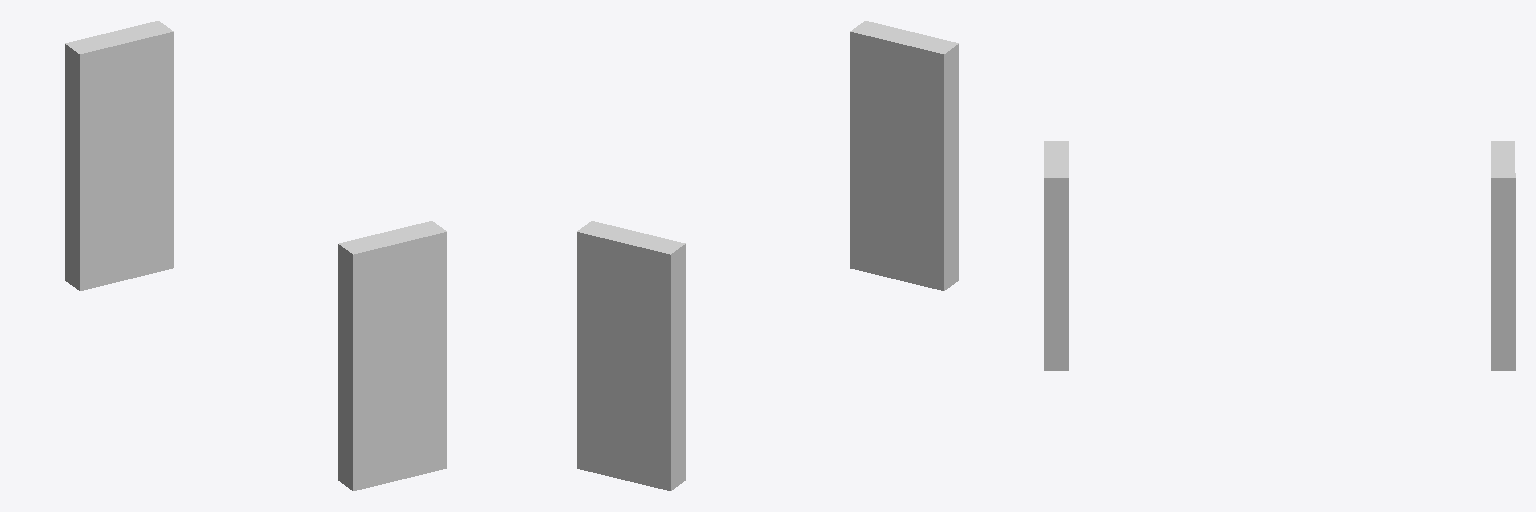
URDF robot description (rbotiq):
<?xml version="1.0" encoding="utf-8"?>
<!-- =================================================================================== -->
<!-- |    This document was not autogenerated by xacro from panda_arm_hand.urdf.xacro  | -->
<!-- |    EDITING THIS FILE BY HAND IS NOT RECOMMENDED but I edit it by hand           | -->
<!-- =================================================================================== -->
<robot name="rbotiq">
  <link name="root">
    <inertial>
      <mass value="0.01"/>
      <inertia ixx="1e-4" ixy="0.0" ixz="0.0" iyy="1e-4" iyz="0.0" izz="1e-4"/>
    </inertial>
  </link>
  <link name="root1">
    <inertial>
      <mass value="0.01"/>
      <inertia ixx="1e-4" ixy="0.0" ixz="0.0" iyy="1e-4" iyz="0.0" izz="1e-4"/>
    </inertial>
  </link>
  <link name="root2">
    <inertial>
      <mass value="0.01"/>
      <inertia ixx="1e-4" ixy="0.0" ixz="0.0" iyy="1e-4" iyz="0.0" izz="1e-4"/>
    </inertial>
  </link>
  <link name="root3">
    <inertial>
      <mass value="0.01"/>
      <inertia ixx="1e-4" ixy="0.0" ixz="0.0" iyy="1e-4" iyz="0.0" izz="1e-4"/>
    </inertial>
  </link>
  <link name="root4">
    <inertial>
      <mass value="0.01"/>
      <inertia ixx="1e-4" ixy="0.0" ixz="0.0" iyy="1e-4" iyz="0.0" izz="1e-4"/>
    </inertial>
  </link>
  <link name="root5">
    <inertial>
      <mass value="1"/>
      <inertia ixx="0.05" ixy="0.0" ixz="0.0" iyy="0.05" iyz="0.0" izz="0.05"/>
    </inertial>
  </link>
  <joint name="6dof_x_joint" type="prismatic">
    <parent link="root"/>
    <child link="root1"/>
    <axis xyz="1 0 0"/>
    <limit lower="-10" upper="10"/>
  </joint>
  <joint name="6dof_y_joint" type="prismatic">
    <parent link="root1"/>
    <child link="root2"/>
    <axis xyz="0 1 0"/>
    <limit lower="-10" upper="10"/>
  </joint>
  <joint name="6dof_z_joint" type="prismatic">
    <parent link="root2"/>
    <child link="root3"/>
    <axis xyz="0 0 1"/>
    <limit lower="-10" upper="10"/>
  </joint>
  <joint name="6dof_x_rotation_joint" type="continuous">
    <parent link="root3"/>
    <child link="root4"/>
    <axis xyz="1 0 0"/>
  </joint>
  <joint name="6dof_y_rotation_joint" type="continuous">
    <parent link="root4"/>
    <child link="root5"/>
    <axis xyz="0 1 0"/>
  </joint>
  <joint name="6dof_z_rotation_joint" type="continuous">
    <parent link="root5"/>
    <child link="robotiq_arg2f_base_link"/>
    <axis xyz="0 0 1"/>
  </joint>

  <!--  Begin Robotiq-140-->
  <link name="robotiq_arg2f_base_link">
    <inertial>
      <origin rpy="0 0 0" xyz="8.625E-08 -4.6583E-06 0.03145"/>
      <mass value="0.22652"/>
      <inertia ixx="0.00020005" ixy="-4.2442E-10" ixz="-2.9069E-10" iyy="0.00017832" iyz="-3.4402E-08"
               izz="0.00013478"/>
    </inertial>
    <visual>
      <origin rpy="0 0 0" xyz="0 0 0"/>
      <geometry>
        <mesh filename="robotiq_description/visual/robotiq_arg2f_base_link.dae"/>
      </geometry>
      <material name="">
        <color rgba="0.1 0.1 0.1 1"/>
      </material>
    </visual>
    <collision>
      <origin rpy="0 0 0" xyz="0 0 0"/>
      <geometry>
        <mesh filename="robotiq_description/collision/robotiq_arg2f_base_link.stl"/>
      </geometry>
    </collision>
  </link>
  <link name="grasp_convenient_link"/>
  <joint name="grasp_convenient_joint" type="fixed">
    <origin rpy="0 0 0" xyz="0 0 0.225"/>
    <parent link="robotiq_arg2f_base_link"/>
    <child link="grasp_convenient_link"/>
  </joint>
  <link name="left_outer_knuckle">
    <inertial>
      <origin rpy="0 0 0" xyz="-0.000200000000003065 0.0199435877845359 0.0292245259211331"/>
      <mass value="0.00853198276973456"/>
      <inertia ixx="2.89328108496468E-04" ixy="-1.57935047237397E-19" ixz="-1.93980378593255E-19"
               iyy="1.86719750325683E-04" iyz="-1.21858577871576E-04" izz="1.21905238907251E-04"/>
    </inertial>
    <visual>
      <origin rpy="0 0 0" xyz="0 0 0"/>
      <geometry>
        <mesh
            filename="robotiq_description/visual/robotiq_arg2f_140_outer_knuckle.dae"/>
      </geometry>
      <material name="">
        <color rgba="0.792156862745098 0.819607843137255 0.933333333333333 1"/>
      </material>
    </visual>
    <!--    <collision>-->
    <!--      <origin rpy="0 0 0" xyz="0 0 0"/>-->
    <!--      <geometry>-->
    <!--        <mesh-->
    <!--            filename="package://robotiq_2f_140_gripper_visualization/meshes/collision/robotiq_arg2f_140_outer_knuckle.stl"/>-->
    <!--      </geometry>-->
    <!--    </collision>-->
  </link>
  <link name="left_outer_finger">
    <inertial>
      <origin rpy="0 0 0" xyz="0.00030115855001899 0.0373907951953854 -0.0208027427000385"/>
      <mass value="0.022614240507152"/>
      <inertia ixx="1.52518312458174E-03" ixy="9.76583423954399E-10" ixz="-5.43838577022588E-10"
               iyy="6.17694243867776E-04" iyz="6.78636130740228E-04" izz="1.16494917907219E-03"/>
    </inertial>
    <visual>
      <origin rpy="0 0 0" xyz="0 0 0"/>
      <geometry>
        <mesh
            filename="robotiq_description/visual/robotiq_arg2f_140_outer_finger.dae"/>
      </geometry>
      <material name="">
        <color rgba="0.1 0.1 0.1 1"/>
      </material>
    </visual>
    <!--    <collision>-->
    <!--      <origin rpy="0 0 0" xyz="0 0 0"/>-->
    <!--      <geometry>-->
    <!--        <mesh-->
    <!--            filename="package://robotiq_2f_140_gripper_visualization/meshes/collision/robotiq_arg2f_140_outer_finger.stl"/>-->
    <!--      </geometry>-->
    <!--    </collision>-->
  </link>
  <link name="left_inner_finger">
    <inertial>
      <origin rpy="0 0 0" xyz="0.000299999999999317 0.0160078233491243 -0.0136945669206257"/>
      <mass value="0.0104003125914103"/>
      <inertia ixx="2.71909453810972E-04" ixy="1.35402465472579E-21" ixz="-7.1817349065269E-22"
               iyy="7.69100314106116E-05" iyz="6.74715432769696E-05" izz="2.30315190420171E-04"/>
    </inertial>
    <visual>
      <origin rpy="0 0 0" xyz="0 0 0"/>
      <geometry>
        <mesh
            filename="robotiq_description/visual/robotiq_arg2f_140_inner_finger.dae"/>
      </geometry>
      <material name="">
        <color rgba="0.1 0.1 0.1 1"/>
      </material>
    </visual>
  </link>
  <link name="left_inner_finger_pad">
    <visual>
      <origin rpy="0 0 0" xyz="0 0 0"/>
      <geometry>
        <box size="0.027 0.065 0.0075"/>
      </geometry>
      <material name="">
        <color rgba="0.9 0.9 0.9 1"/>
      </material>
    </visual>
    <collision>
      <origin rpy="0 0 0" xyz="0 0 0"/>
      <geometry>
        <box size="0.03 0.07 0.0075"/>
      </geometry>
      <material name="">
        <color rgba="0.9 0.0 0.0 1"/>
      </material>
    </collision>
  </link>
  <link name="left_inner_knuckle">
    <inertial>
      <origin rpy="0 0 0" xyz="0.000123011831763771 0.0507850843201817 0.00103968640075166"/>
      <mass value="0.0271177346495152"/>
      <inertia ixx="2.61910379223783E-03" ixy="-2.43616858946494E-05" ixz="-6.37789906117123E-09"
               iyy="2.8270243746167E-04" iyz="-5.37200748039765E-05" izz="2.83695868220296E-04"/>
    </inertial>
    <visual>
      <origin rpy="0 0 0" xyz="0 0 0"/>
      <geometry>
        <mesh
            filename="robotiq_description/visual/robotiq_arg2f_140_inner_knuckle.dae"/>
      </geometry>
      <material name="">
        <color rgba="0.1 0.1 0.1 1"/>
      </material>
    </visual>
  </link>
  <link name="right_outer_knuckle">
    <inertial>
      <origin rpy="0 0 0" xyz="-0.000200000000003065 0.0199435877845359 0.0292245259211331"/>
      <mass value="0.00853198276973456"/>
      <inertia ixx="2.89328108496468E-06" ixy="-1.57935047237397E-19" ixz="-1.93980378593255E-19"
               iyy="1.86719750325683E-06" iyz="-1.21858577871576E-06" izz="1.21905238907251E-06"/>
    </inertial>
    <visual>
      <origin rpy="0 0 0" xyz="0 0 0"/>
      <geometry>
        <mesh
            filename="robotiq_description/visual/robotiq_arg2f_140_outer_knuckle.dae"/>
      </geometry>
      <material name="">
        <color rgba="0.792156862745098 0.819607843137255 0.933333333333333 1"/>
      </material>
    </visual>
  </link>
  <link name="right_outer_finger">
    <inertial>
      <origin rpy="0 0 0" xyz="0.00030115855001899 0.0373907951953854 -0.0208027427000385"/>
      <mass value="0.022614240507152"/>
      <inertia ixx="1.52518312458174E-03" ixy="9.76583423954399E-10" ixz="-5.43838577022588E-10"
               iyy="6.17694243867776E-03" iyz="6.78636130740228E-04" izz="1.16494917907219E-03"/>
    </inertial>
    <visual>
      <origin rpy="0 0 0" xyz="0 0 0"/>
      <geometry>
        <mesh
            filename="robotiq_description/visual/robotiq_arg2f_140_outer_finger.dae"/>
      </geometry>
      <material name="">
        <color rgba="0.1 0.1 0.1 1"/>
      </material>
    </visual>
  </link>
  <link name="right_inner_finger">
    <inertial>
      <origin rpy="0 0 0" xyz="0.000299999999999317 0.0160078233491243 -0.0136945669206257"/>
      <mass value="0.0104003125914103"/>
      <inertia ixx="2.71909453810972E-03" ixy="1.35402465472579E-21" ixz="-7.1817349065269E-22"
               iyy="7.69100314106116E-04" iyz="6.74715432769696E-04" izz="2.30315190420171E-03"/>
    </inertial>
    <visual>
      <origin rpy="0 0 0" xyz="0 0 0"/>
      <geometry>
        <mesh
            filename="robotiq_description/visual/robotiq_arg2f_140_inner_finger.dae"/>
      </geometry>
      <material name="">
        <color rgba="0.1 0.1 0.1 1"/>
      </material>
    </visual>
  </link>
  <link name="right_inner_finger_pad">
    <visual>
      <origin rpy="0 0 0" xyz="0 0 0"/>
      <geometry>
        <box size="0.027 0.065 0.0075"/>
      </geometry>
      <material name="">
        <color rgba="0.9 0.9 0.9 1"/>
      </material>
    </visual>
    <collision>
      <origin rpy="0 0 0" xyz="0 0 0"/>
      <geometry>
        <box size="0.03 0.07 0.0075"/>
      </geometry>
      <material name="">
        <color rgba="0.9 0.0 0.0 1"/>
      </material>
    </collision>
  </link>
  <link name="right_inner_knuckle">
    <inertial>
      <origin rpy="0 0 0" xyz="0.000123011831763771 0.0507850843201817 0.00103968640075166"/>
      <mass value="0.0271177346495152"/>
      <inertia ixx="2.61910379223783E-02" ixy="-2.43616858946494E-04" ixz="-6.37789906117123E-06"
               iyy="2.8270243746167E-03" iyz="-5.37200748039765E-04" izz="2.83695868220296E-02"/>
    </inertial>
    <visual>
      <origin rpy="0 0 0" xyz="0 0 0"/>
      <geometry>
        <mesh
            filename="robotiq_description/visual/robotiq_arg2f_140_inner_knuckle.dae"/>
      </geometry>
      <material name="">
        <color rgba="0.1 0.1 0.1 1"/>
      </material>
    </visual>
  </link>

  <joint name="robotiq_2f_140_left_driver_joint" type="prismatic">
    <origin rpy="1.57079 0 0" xyz="0 -0.068 0.177"/>
    <parent link="robotiq_arg2f_base_link"/>
    <child link="left_inner_finger_pad"/>
    <axis xyz="0 0.35112344 -0.93632918"/>
    <limit effort="1000" lower="0" upper="0.06835" velocity="2.0"/>
  </joint>
  <joint name="robotiq_2f_140_right_driver_joint" type="prismatic">
    <origin rpy="1.57079 0 -3.14" xyz="0 0.068 0.177"/>
    <parent link="robotiq_arg2f_base_link"/>
    <child link="right_inner_finger_pad"/>
    <axis xyz="0 0.35112344 -0.93632918"/>
    <limit effort="1000" lower="0" upper="0.06835" velocity="2.0"/>
  </joint>

  <joint name="robotiq_2f_140_left_driver_mimic_joint" type="fixed">
    <origin rpy="2.29579632679 0 0" xyz="0 -0.030601 0.054905"/>
    <parent link="robotiq_arg2f_base_link"/>
    <child link="left_outer_knuckle"/>
    <axis xyz="-1 0 0"/>
<!--    <limit effort="1000" lower="0" upper="0.725" velocity="2.0"/>-->
<!--    <mimic joint="robotiq_2f_140_left_driver_joint" multiplier="-1" offset="0"/>-->
  </joint>
  <joint name="robotiq_2f_140_left_coupler_joint" type="fixed">
    <origin rpy="0 0 0" xyz="0 0.01821998610742 0.0260018192872234"/>
    <parent link="left_outer_knuckle"/>
    <child link="left_outer_finger"/>
    <axis xyz="1 0 0"/>
  </joint>
  <joint name="robotiq_2f_140_left_spring_link_joint" type="fixed">
    <origin rpy="2.29579632679 0 0.0" xyz="0 -0.0127 0.06142"/>
    <parent link="robotiq_arg2f_base_link"/>
    <child link="left_inner_knuckle"/>
    <axis xyz="-1 0 0"/>
<!--    <limit effort="1000" lower="0" upper="0.8757" velocity="2.0"/>-->
<!--    <mimic joint="robotiq_2f_140_left_driver_joint" multiplier="-1" offset="0"/>-->
  </joint>
  <joint name="robotiq_2f_140_left_pad_joint" type="fixed">
    <origin rpy="0 0 0" xyz="0 -0.0457554015893473 0.0272203446692936"/>
    <child link="left_inner_finger"/>
    <parent link="left_inner_finger_pad"/>
    <axis xyz="0 0 1"/>
  </joint>

  <joint name="robotiq_2f_140_right_driver_mimic_joint" type="fixed">
    <origin rpy="2.29579632679 0 3.14159265359" xyz="0 0.030601 0.054905"/>
    <parent link="robotiq_arg2f_base_link"/>
    <child link="right_outer_knuckle"/>
    <axis xyz="-1 0 0"/>
<!--    <limit effort="1000" lower="0.0" upper="0.725" velocity="2.0"/>-->
<!--    <mimic joint="robotiq_2f_140_left_driver_joint" multiplier="-1" offset="0"/>-->
  </joint>
  <joint name="robotiq_2f_140_right_coupler_joint" type="fixed">
    <origin rpy="0 0 0" xyz="0 0.01821998610742 0.0260018192872234"/>
    <parent link="right_outer_knuckle"/>
    <child link="right_outer_finger"/>
    <axis xyz="1 0 0"/>
  </joint>
  <joint name="robotiq_2f_140_right_spring_link_joint" type="fixed">
    <origin rpy="2.29579632679 0 -3.14159265359" xyz="0 0.0127 0.06142"/>
    <parent link="robotiq_arg2f_base_link"/>
    <child link="right_inner_knuckle"/>
    <axis xyz="-1 0 0"/>
<!--    <limit effort="1000" lower="0" upper="0.8757" velocity="2.0"/>-->
<!--    <mimic joint="robotiq_2f_140_left_driver_joint" multiplier="-1" offset="0"/>-->
  </joint>
  <joint name="robotiq_2f_140_right_pad_joint" type="fixed">
    <origin rpy="0 0 0" xyz="0 -0.0457554015893473 0.0272203446692936"/>
    <child link="right_inner_finger"/>
    <parent link="right_inner_finger_pad"/>
    <axis xyz="0 0 1"/>
  </joint>
</robot>

--- Facts derived from the render (not from the file) ---
Views: 3 orthographic renders of the robot side by side, from view 1: azimuth 30°, elevation 25°; view 2: azimuth 150°, elevation 25°; view 3: azimuth 270°, elevation 25°.
Robot: rbotiq — 18 links, 17 joints (3 continuous, 5 prismatic, 9 fixed); root link root; default pose: every joint at zero.
Visible links, largest first — view 1: right_inner_finger_pad, left_inner_finger_pad; view 2: left_inner_finger_pad, right_inner_finger_pad; view 3: left_inner_finger_pad, right_inner_finger_pad.
Boxes of the visible links, bbox=[...] form: right_inner_finger_pad: bbox=[65, 21, 173, 290]; left_inner_finger_pad: bbox=[338, 221, 446, 490]; left_inner_finger_pad: bbox=[850, 21, 958, 290]; right_inner_finger_pad: bbox=[577, 221, 685, 490]; left_inner_finger_pad: bbox=[1044, 141, 1068, 370]; right_inner_finger_pad: bbox=[1491, 141, 1515, 370].
Bounding box of the posed robot: 0.027 × 0.1435 × 0.065 m (x, y, z).
0 mesh visuals loaded from 5 distinct referenced files (none loaded); not drawn: 9 (reference not matched to a file when rendering).